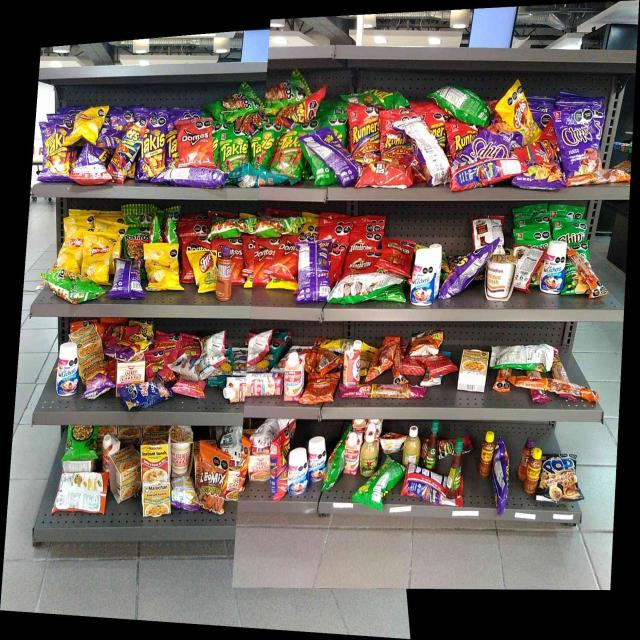bitzEnchilado90: (307, 373, 337, 402)
bitzEnchilado95: (510, 377, 576, 392), (575, 252, 595, 296)
bitzHabanero: (341, 386, 426, 400)
bokadosCacahuates: (126, 380, 169, 407)
botaneraChilito: (524, 447, 542, 495), (479, 429, 495, 478)
cheetosFlaminHot: (84, 362, 110, 397)
chipsFuego: (562, 114, 596, 181), (526, 162, 560, 188), (476, 134, 510, 158)
churrumais: (146, 348, 166, 377), (103, 327, 137, 342)
delPrimoSalsa: (360, 429, 377, 476), (402, 424, 420, 465)
doritosNacho: (179, 122, 213, 165), (276, 240, 296, 278), (255, 243, 273, 279), (232, 240, 244, 284), (182, 235, 211, 250), (247, 236, 254, 273)
fritosLimon: (508, 95, 531, 134), (196, 251, 214, 292)
leoCacahuates: (177, 359, 214, 378)
leoMix: (199, 454, 227, 513)
maruchanPollo: (459, 347, 488, 392), (112, 458, 140, 502), (141, 480, 170, 516)
maruchanRes: (140, 439, 171, 478)
nestleCarnation: (342, 338, 362, 386), (284, 352, 304, 399), (245, 373, 282, 398), (345, 429, 360, 476), (221, 376, 245, 403), (102, 435, 121, 456)
nestleLechera: (410, 248, 434, 307), (55, 343, 80, 397), (543, 242, 567, 294), (287, 448, 307, 493), (308, 439, 329, 480)
nissinRes: (248, 449, 270, 484)
popKarameladas: (543, 452, 578, 501)
productoAtras: (58, 472, 108, 514), (334, 274, 402, 300), (298, 243, 328, 299), (436, 89, 489, 118), (491, 344, 554, 368), (308, 135, 340, 181), (168, 166, 226, 189), (414, 118, 433, 185), (113, 257, 141, 298), (171, 475, 196, 510), (517, 250, 538, 288), (248, 332, 269, 361), (206, 328, 224, 358)
rancheritos: (367, 165, 410, 188), (384, 238, 408, 274), (472, 213, 503, 240), (348, 233, 375, 252), (348, 254, 376, 272)
runners: (451, 161, 512, 184), (114, 121, 138, 178), (351, 109, 379, 156), (384, 117, 411, 165), (406, 474, 445, 505), (536, 126, 557, 160), (449, 121, 474, 149), (282, 105, 314, 121), (434, 118, 446, 150)
sabritasOriginal: (150, 249, 178, 290), (87, 235, 109, 280), (64, 233, 83, 271), (77, 109, 96, 141)
salsaBufalo: (448, 438, 464, 500), (427, 421, 440, 473)
semillasGirasol: (231, 169, 291, 188)
tajinDulce: (216, 247, 231, 301)
takisFuego: (41, 122, 71, 179), (139, 119, 166, 176), (166, 120, 178, 167)
takisOriginal: (221, 129, 249, 167), (278, 132, 302, 167), (251, 133, 275, 164)
tostitos: (65, 424, 98, 459), (265, 78, 308, 99), (48, 272, 87, 294), (220, 91, 260, 110), (125, 228, 149, 256)
